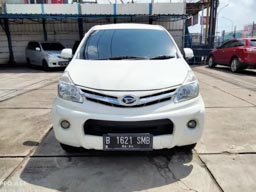plat: (106, 135, 152, 144)
